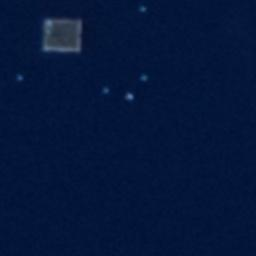square_cover: (38, 13, 90, 59)
